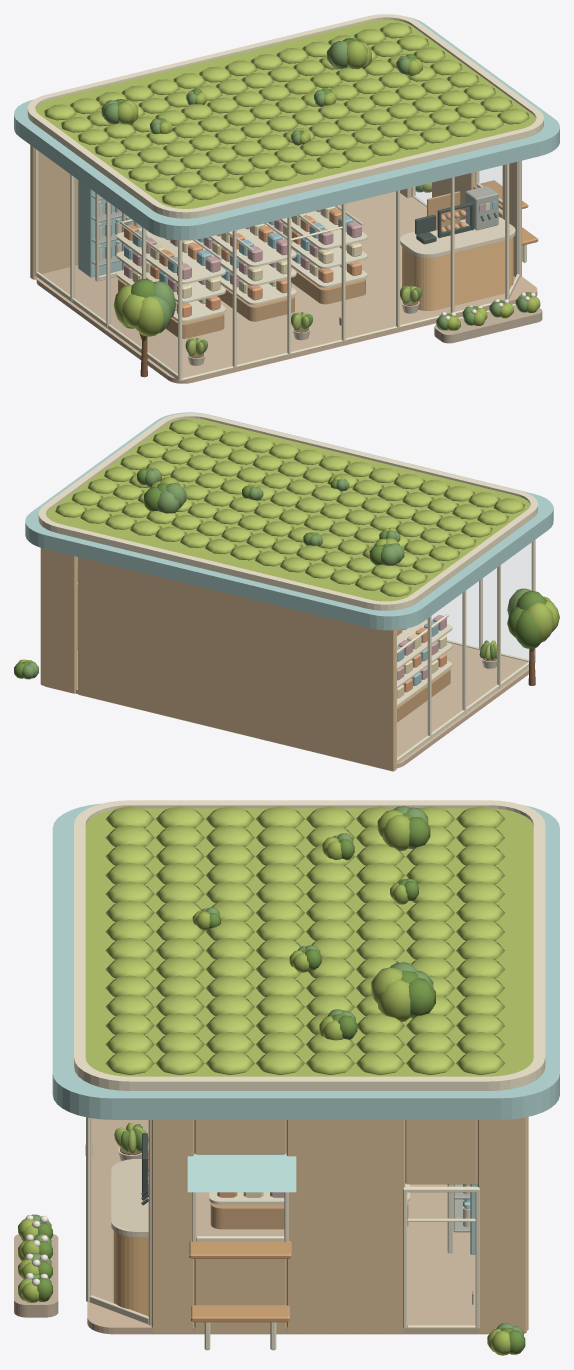
The picture shows the model from 3 angles, top to bottom: view 1: azimuth 30°, elevation 25°; view 2: azimuth 150°, elevation 25°; view 3: azimuth 270°, elevation 25°; orthographic projection. The views are drawn at different scales.
Parts seen in each view (by area): view 1: L 屋顶地被, S 室内楼面, R 屋顶种植土, R 薄荷圆角檐带, R 奶油绿顶包边, I 食品包装, I 商品岛层板, I 圆角收银柜, L 地被与灌丛, A 连续前玻璃, A 后墙, A 左侧玻璃 (+14 smaller); view 2: A 后墙, L 屋顶地被, R 屋顶种植土, R 薄荷圆角檐带, R 奶油绿顶包边, S 室内楼面, A 后门侧墙, L 地被与灌丛, A 左侧玻璃, L 乔木 · 枝干与树冠, I 食品包装, I 商品岛层板 (+3 smaller); view 3: L 屋顶地被, A 东侧实墙, R 屋顶种植土, R 薄荷圆角檐带, R 奶油绿顶包边, S 室内楼面, L 地被与灌丛, A 取餐窗下, A 后门过梁, R 快取小雨棚, A 取餐窗过梁, I 圆角收银柜 (+10 smaller).
Boxes of the visible parts, box(x1,y1,x2,y2) form: L 屋顶地被: box(44, 22, 529, 206); S 室内楼面: box(36, 191, 537, 383); R 屋顶种植土: box(35, 19, 535, 208); R 薄荷圆角檐带: box(14, 16, 559, 240); R 奶油绿顶包边: box(27, 14, 543, 218); I 食品包装: box(124, 206, 361, 317); I 商品岛层板: box(116, 211, 367, 322); I 圆角收银柜: box(402, 237, 513, 310); L 地被与灌丛: box(101, 38, 540, 330); A 连续前玻璃: box(179, 164, 508, 381); A 后墙: box(30, 145, 78, 279); A 左侧玻璃: box(34, 148, 182, 381); A 后墙: box(78, 557, 396, 771); L 屋顶地被: box(55, 419, 524, 596); R 屋顶种植土: box(46, 418, 530, 601); R 薄荷圆角檐带: box(25, 412, 553, 630); R 奶油绿顶包边: box(38, 413, 537, 610); S 室内楼面: box(75, 642, 528, 768); A 后门侧墙: box(44, 549, 77, 693); L 地被与灌丛: box(14, 467, 404, 679); A 左侧玻璃: box(396, 539, 535, 763); L 乔木 · 枝干与树冠: box(507, 588, 559, 685); I 食品包装: box(397, 615, 446, 698); I 商品岛层板: box(397, 619, 452, 706); L 屋顶地被: box(105, 806, 504, 1075); A 东侧实墙: box(151, 1117, 526, 1333); R 屋顶种植土: box(85, 808, 533, 1076); R 薄荷圆角檐带: box(52, 803, 559, 1119); R 奶油绿顶包边: box(74, 800, 545, 1090); S 室内楼面: box(87, 1118, 489, 1334); L 地被与灌丛: box(18, 806, 525, 1355); A 取餐窗下: box(194, 1259, 286, 1332); A 后门过梁: box(405, 1120, 477, 1184); R 快取小雨棚: box(187, 1153, 296, 1192); A 取餐窗过梁: box(194, 1120, 286, 1154); I 圆角收银柜: box(113, 1231, 148, 1316).
Size of the model in its own units: 22.85 by 10.12 by 16.57.
